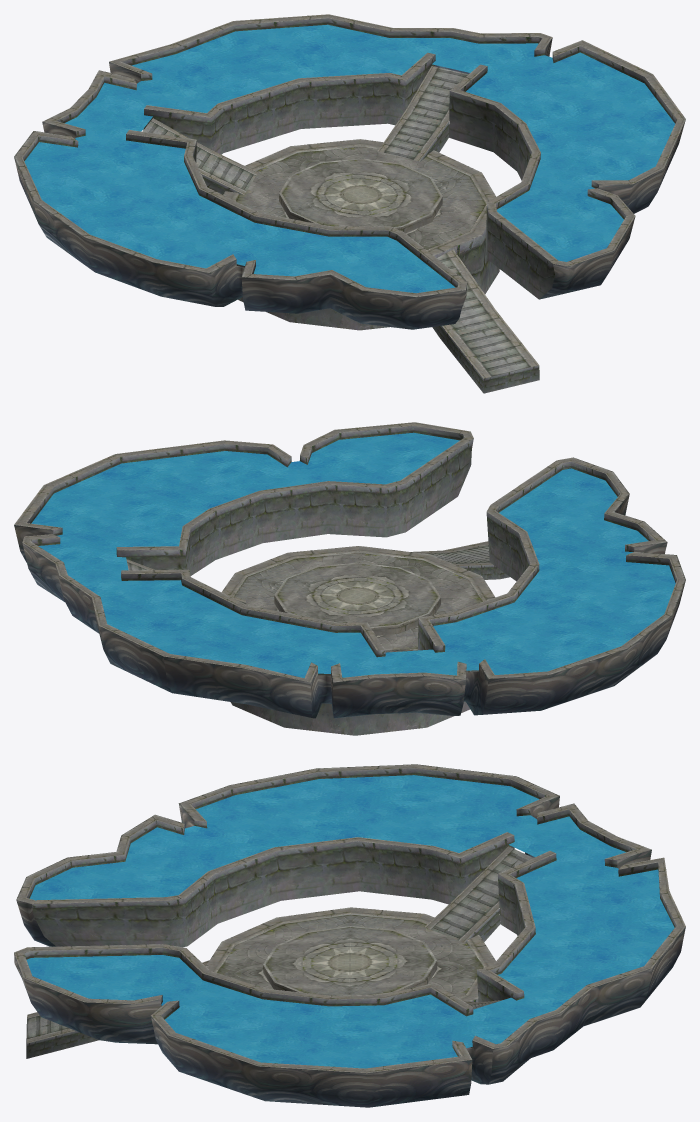
File: environment_common_shitai_005_a.FBX
The picture shows the model from 3 angles, top to bottom: view 1: azimuth 30°, elevation 25°; view 2: azimuth 150°, elevation 25°; view 3: azimuth 270°, elevation 25°; orthographic projection. The views are drawn at different scales.
Parts seen in each view (by area): view 1: environment_common_shitai_005_g, environment_common_shitai_005_d, environment_common_shitai_005_f, environment_common_shitai_005_e, environment_common_shitai_005_a, environment_common_shitai_005_c, environment_common_shitai_005_h, environment_common_shitai_005_h1, environment_common_shitai_005_i1, environment_common_shitai_005_j1, environment_common_shitai_005_h0, environment_common_shitai_005_j (+1 smaller); view 2: environment_common_shitai_005_g, environment_common_shitai_005_d, environment_common_shitai_005_f, environment_common_shitai_005_e, environment_common_shitai_005_a, environment_common_shitai_005_c, environment_common_shitai_005_i1, environment_common_shitai_005_j1, environment_common_shitai_005_h, environment_common_shitai_005_b; view 3: environment_common_shitai_005_g, environment_common_shitai_005_d, environment_common_shitai_005_f, environment_common_shitai_005_e, environment_common_shitai_005_a, environment_common_shitai_005_c, environment_common_shitai_005_h0, environment_common_shitai_005_j1, environment_common_shitai_005_j, environment_common_shitai_005_h.
Part boxes in pixels (x1,y1,x2,y2): environment_common_shitai_005_g: (24,24,675,293); environment_common_shitai_005_d: (22,18,676,299); environment_common_shitai_005_f: (14,38,685,329); environment_common_shitai_005_e: (14,14,685,297); environment_common_shitai_005_a: (279,158,442,227); environment_common_shitai_005_c: (235,145,486,249); environment_common_shitai_005_h: (437,249,538,378); environment_common_shitai_005_h1: (378,66,468,161); environment_common_shitai_005_i1: (236,228,499,330); environment_common_shitai_005_j1: (223,139,496,255); environment_common_shitai_005_h0: (143,118,257,194); environment_common_shitai_005_j: (432,326,539,393); environment_common_shitai_005_g: (31,432,675,677); environment_common_shitai_005_d: (27,426,676,657); environment_common_shitai_005_f: (14,494,685,718); environment_common_shitai_005_e: (14,422,685,682); environment_common_shitai_005_a: (274,562,440,627); environment_common_shitai_005_c: (233,551,483,650); environment_common_shitai_005_i1: (230,670,478,735); environment_common_shitai_005_j1: (221,546,495,650); environment_common_shitai_005_h: (412,541,492,566); environment_common_shitai_005_b: (274,595,440,635); environment_common_shitai_005_g: (26,775,674,1068); environment_common_shitai_005_d: (24,768,676,1056); environment_common_shitai_005_f: (14,796,685,1107); environment_common_shitai_005_e: (14,764,685,1073); environment_common_shitai_005_a: (263,926,436,995); environment_common_shitai_005_c: (216,913,484,997); environment_common_shitai_005_h0: (425,846,532,942); environment_common_shitai_005_j1: (206,907,495,1001); environment_common_shitai_005_j: (26,1005,161,1058); environment_common_shitai_005_h: (27,960,209,1043).
Size of the model in its own units: 353 by 72.84 by 326.
